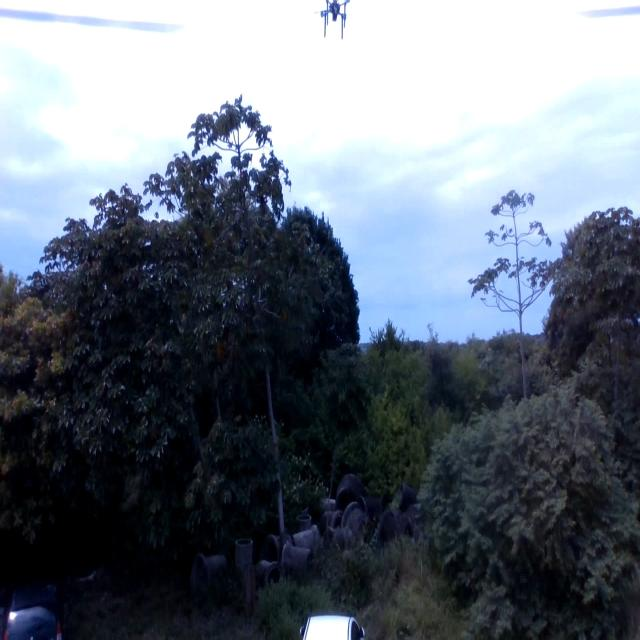-uav-: (313, 3, 369, 41)
